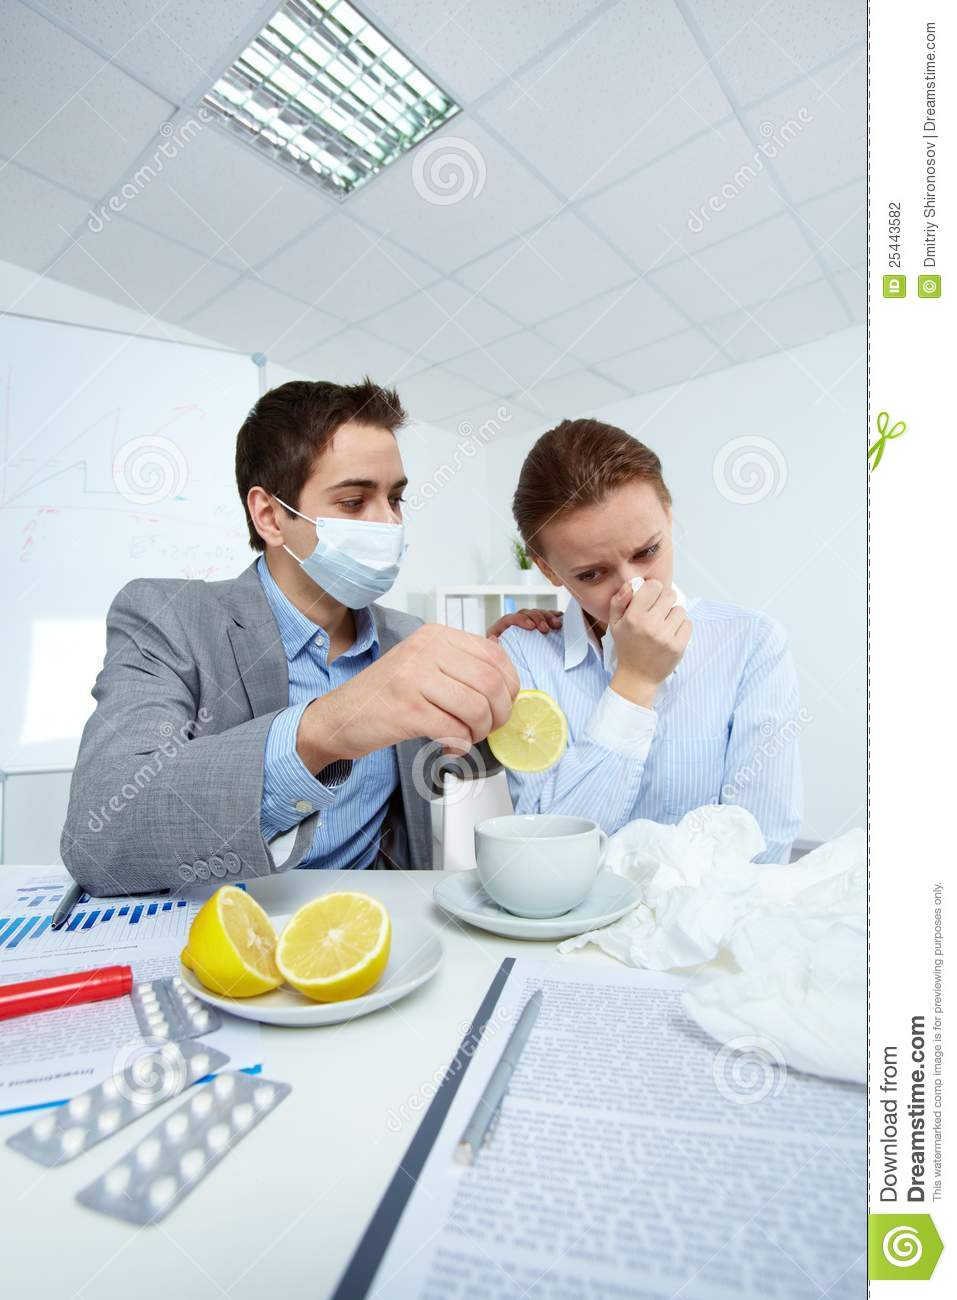mask: (297, 517, 405, 617)
